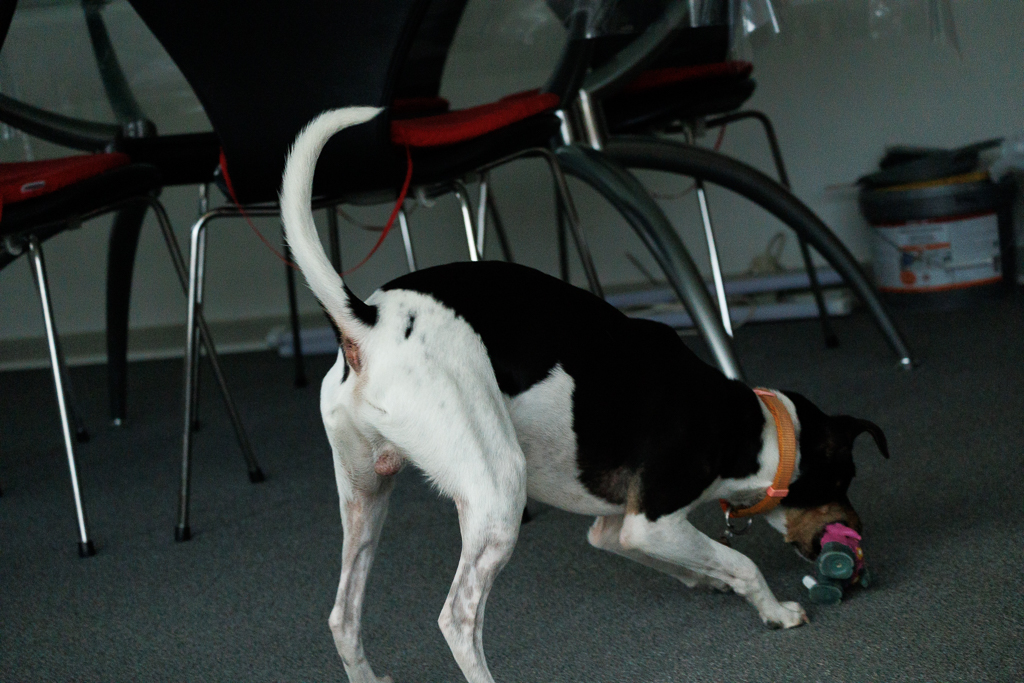Dog: (272, 96, 896, 683)
Humanoid: (796, 506, 883, 624)
